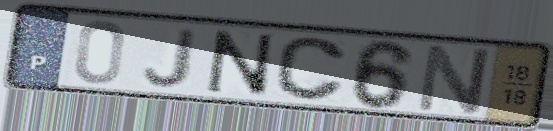0: (71, 18, 128, 87)
6: (351, 38, 415, 111)
C: (272, 35, 348, 104)
J: (141, 26, 202, 90)
N: (412, 41, 495, 116), (205, 28, 275, 99)
